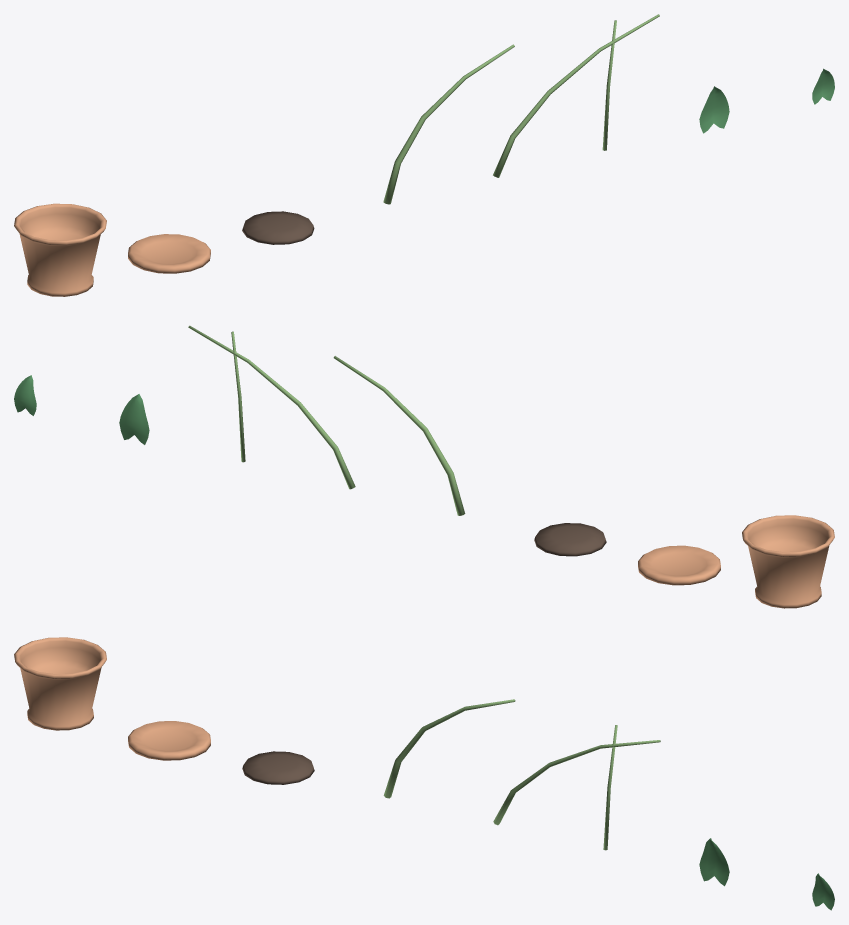
Rendered from pothos-components.glb.
The picture shows the model from 3 angles, top to bottom: view 1: azimuth 30°, elevation 25°; view 2: azimuth 150°, elevation 25°; view 3: azimuth 330°, elevation 25°; orthographic projection.
Visible parts, largest first — view 1: Pot, Saucer, Soil, VineA, VineB, LeafA, LeafB, Petiole; view 2: Pot, Saucer, Soil, VineA, VineB, LeafA, LeafB, Petiole; view 3: Pot, Saucer, Soil, VineA, VineB, LeafA, LeafB.
Boxes of the visible parts, x1,y1,x2,y2 form: Pot: (14,203,106,296); Saucer: (128,234,210,273); Soil: (242,211,314,244); VineA: (383,44,514,204); VineB: (493,14,659,177); LeafA: (699,86,729,133); LeafB: (812,68,834,104); Petiole: (602,20,616,150); Pot: (742,515,834,608); Saucer: (638,545,720,585); Soil: (534,523,606,556); VineA: (333,356,465,515); VineB: (188,325,355,489); LeafA: (119,394,149,444); LeafB: (14,375,36,415); Petiole: (231,331,245,462); Pot: (14,637,106,730); Saucer: (128,721,210,760); Soil: (242,751,314,784); VineA: (383,699,515,798); VineB: (493,740,660,825); LeafA: (699,838,729,886); LeafB: (812,873,834,910).
Size of the model in its own units: 6.74 by 1.07 by 0.672.
